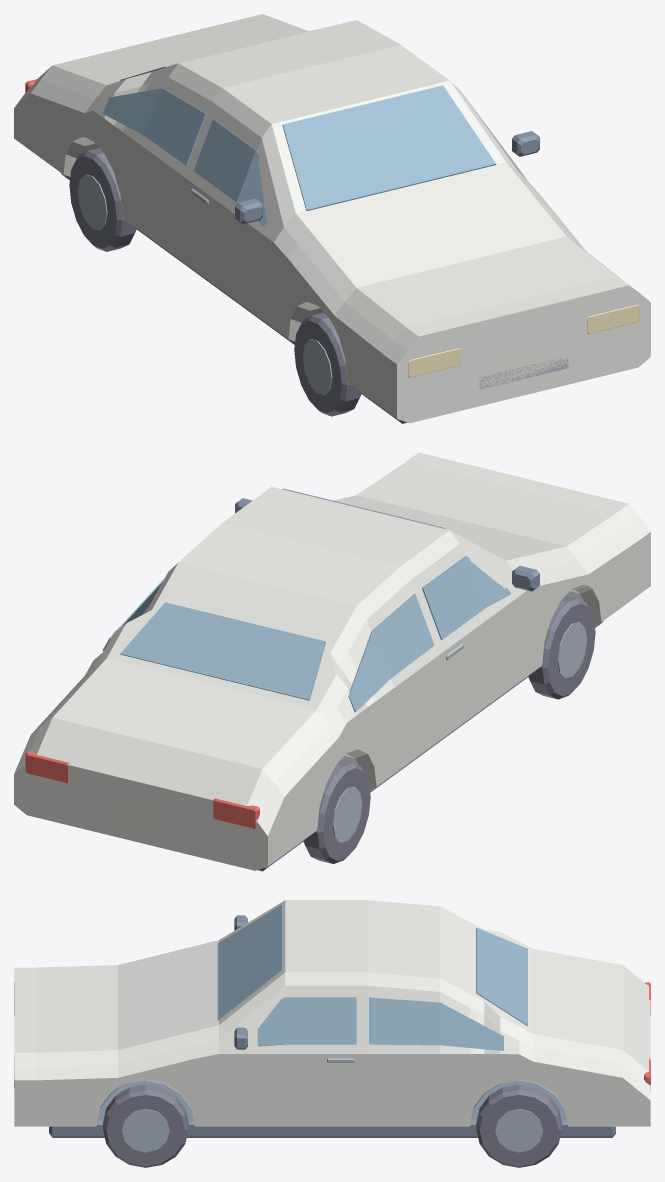
File: HK_Sedan.glb
3 renders of one model, top to bottom at view 1: azimuth 30°, elevation 25°; view 2: azimuth 150°, elevation 25°; view 3: azimuth 270°, elevation 25°, orthographic. The views are drawn at different scales.
Visible parts, largest first — view 1: HK_Sedan_BodyMain, HK_Sedan_Glass, HK_Sedan_Tire_FR, HK_Sedan_Tire_RR; view 2: HK_Sedan_BodyMain, HK_Sedan_Glass, HK_Sedan_Tire_RR, HK_Sedan_Tire_FR; view 3: HK_Sedan_BodyMain, HK_Sedan_Glass, HK_Sedan_Tire_FL, HK_Sedan_Tire_RL.
Part boxes in pixels (x1,y1,x2,y2): HK_Sedan_BodyMain: (14, 14, 650, 423); HK_Sedan_Glass: (102, 27, 496, 226); HK_Sedan_Tire_FR: (294, 312, 361, 416); HK_Sedan_Tire_RR: (69, 148, 136, 251); HK_Sedan_BodyMain: (14, 452, 650, 871); HK_Sedan_Glass: (102, 488, 511, 712); HK_Sedan_Tire_RR: (303, 760, 370, 863); HK_Sedan_Tire_FR: (528, 595, 595, 699); HK_Sedan_BodyMain: (14, 900, 650, 1137); HK_Sedan_Glass: (217, 904, 527, 1050); HK_Sedan_Tire_FL: (103, 1084, 188, 1167); HK_Sedan_Tire_RL: (476, 1084, 561, 1167).
Size of the model in its own units: 2.08 by 1.45 by 4.61.
